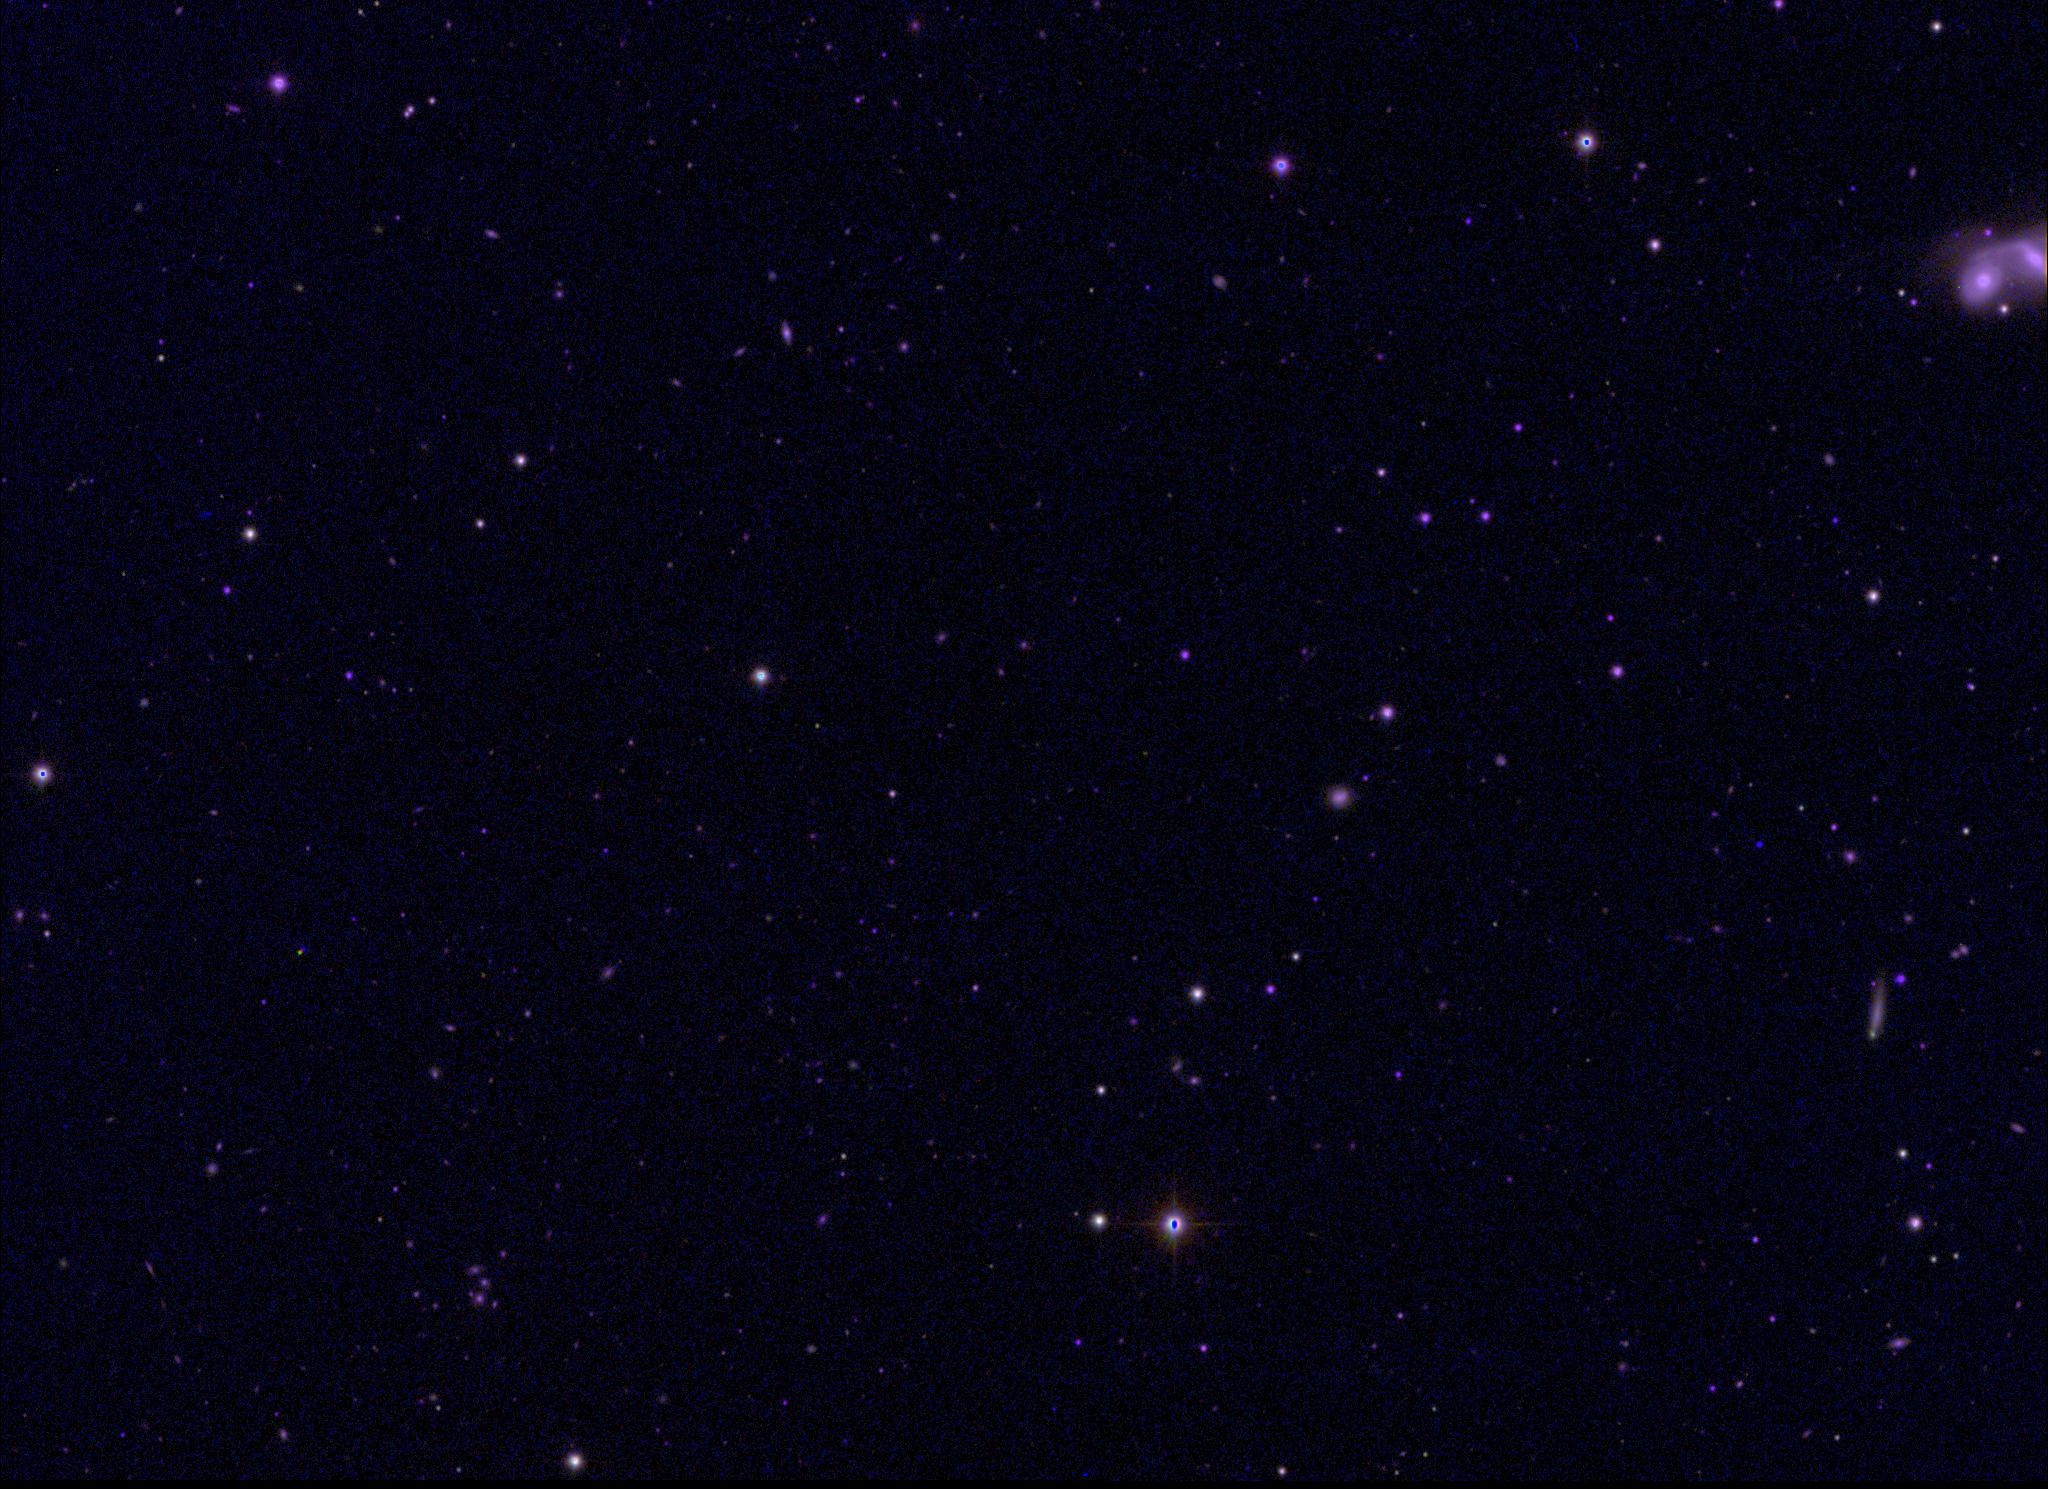L: (1751, 837, 1763, 849)
